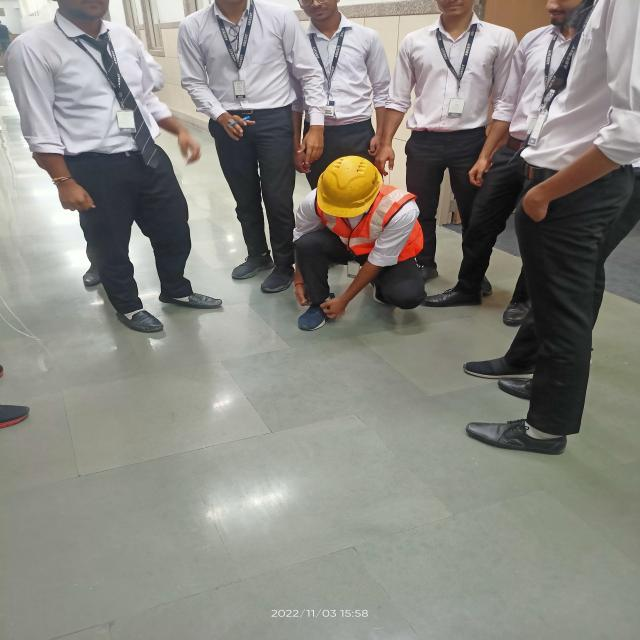safe: (290, 153, 434, 336)
